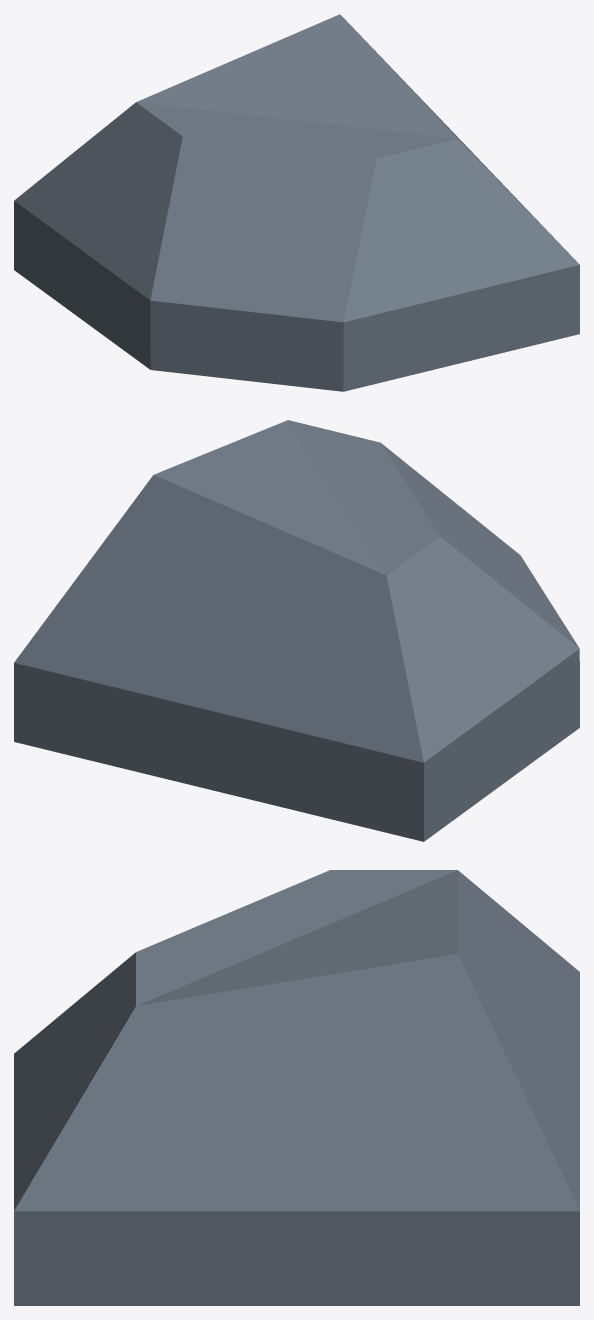
File: Stone_B.fbx
3 renders of one model, top to bottom at view 1: azimuth 30°, elevation 25°; view 2: azimuth 150°, elevation 25°; view 3: azimuth 270°, elevation 25°, orthographic. The views are drawn at different scales.
Parts seen in each view (by area): view 1: Stone_B; view 2: Stone_B; view 3: Stone_B.
Boxes of the visible parts, bbox=[...] form: Stone_B: bbox=[14, 14, 579, 391]; Stone_B: bbox=[14, 420, 579, 841]; Stone_B: bbox=[14, 870, 579, 1305].
Size of the model in its own units: 15.15 by 8.87 by 15.15.
Materials: 1 (1 with a texture image).
